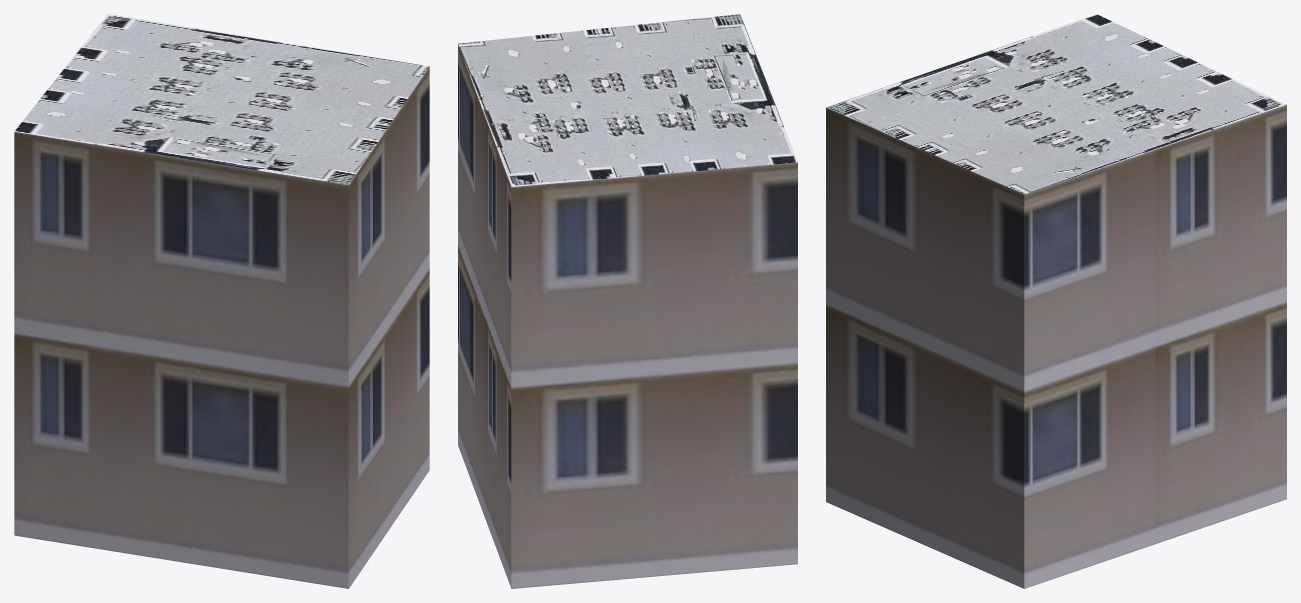
Rendered from ResTex__1527.fbx.
The picture shows the model from 3 angles, left to right: view 1: azimuth 30°, elevation 25°; view 2: azimuth 150°, elevation 25°; view 3: azimuth 270°, elevation 25°; orthographic projection. The views are drawn at different scales.
Visible parts, largest first — view 1: CityEngineMaterial_21_m, CityEngineMaterial_4_m; view 2: CityEngineMaterial_21_m, CityEngineMaterial_4_m; view 3: CityEngineMaterial_21_m, CityEngineMaterial_4_m.
Part boxes in pixels (left/top/right/bottom): CityEngineMaterial_21_m: left=14, top=67, right=429, bottom=588; CityEngineMaterial_4_m: left=14, top=14, right=429, bottom=184; CityEngineMaterial_21_m: left=458, top=44, right=797, bottom=588; CityEngineMaterial_4_m: left=458, top=14, right=797, bottom=186; CityEngineMaterial_21_m: left=826, top=105, right=1286, bottom=588; CityEngineMaterial_4_m: left=826, top=14, right=1286, bottom=194.
Bounding box in the file's own units: 5.89 × 6 × 6.35.
2 materials, 2 textured.
